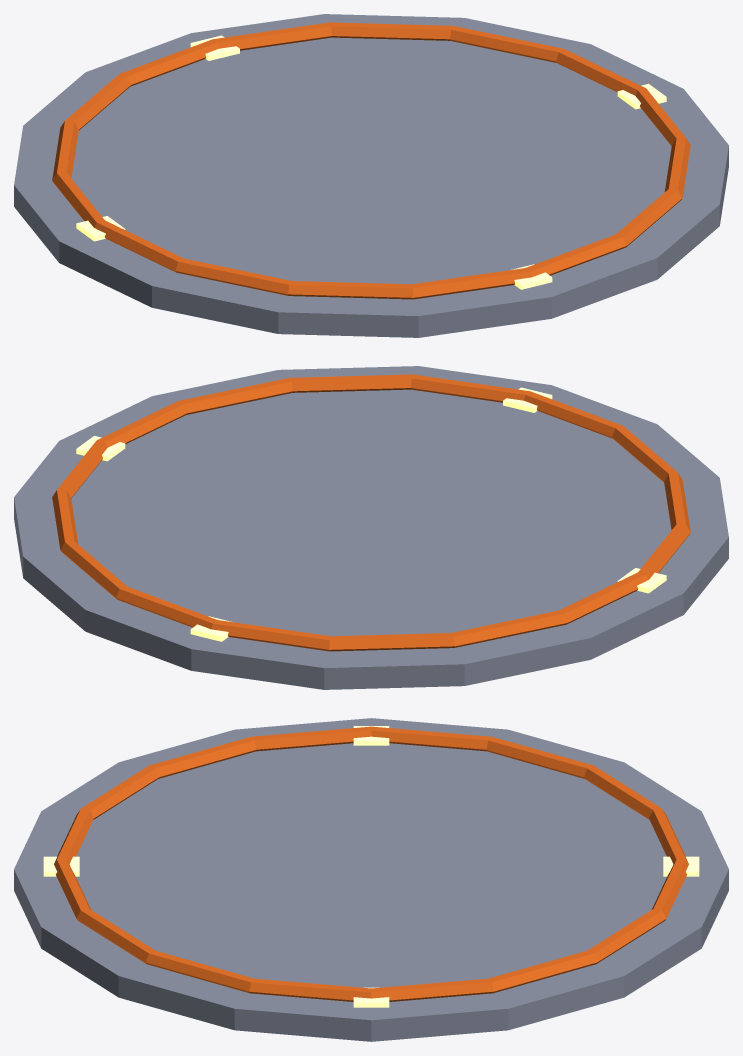
Rendered from colony-lander-pad.glb.
The picture shows the model from 3 angles, top to bottom: view 1: azimuth 30°, elevation 25°; view 2: azimuth 150°, elevation 25°; view 3: azimuth 270°, elevation 25°; orthographic projection.
Visible parts, largest first — view 1: lander_pad; view 2: lander_pad; view 3: lander_pad.
Part boxes in pixels (x1,y1,x2,y2): lander_pad: [14, 14, 728, 337]; lander_pad: [14, 366, 728, 689]; lander_pad: [14, 718, 728, 1041].
Size of the model in its own units: 6 by 0.2893 by 6.
